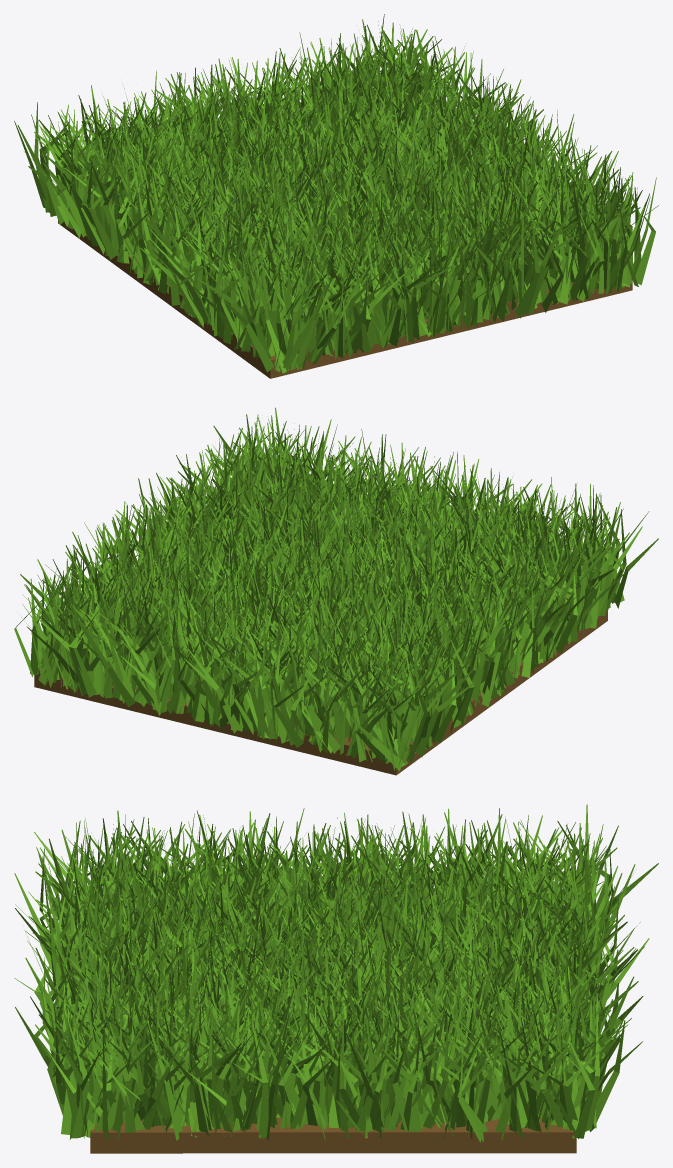
The model's file is grass.glb.
The picture shows the model from 3 angles, top to bottom: view 1: azimuth 30°, elevation 25°; view 2: azimuth 150°, elevation 25°; view 3: azimuth 270°, elevation 25°; orthographic projection. The views are drawn at different scales.
Visible parts, largest first — view 1: grassess; view 2: grassess; view 3: grassess.
Part boxes in pixels (box(x1,y1,x2,y2)): grassess: box(14, 14, 658, 378); grassess: box(14, 407, 658, 775); grassess: box(14, 804, 658, 1153).
Bounding box in the file's own units: 1.23 × 0.3088 × 1.33.
